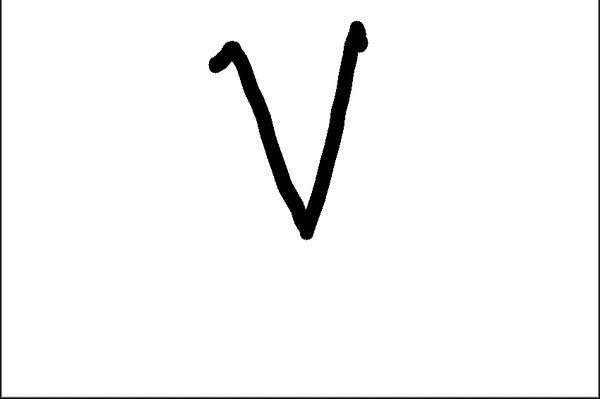V: (198, 11, 378, 244)
